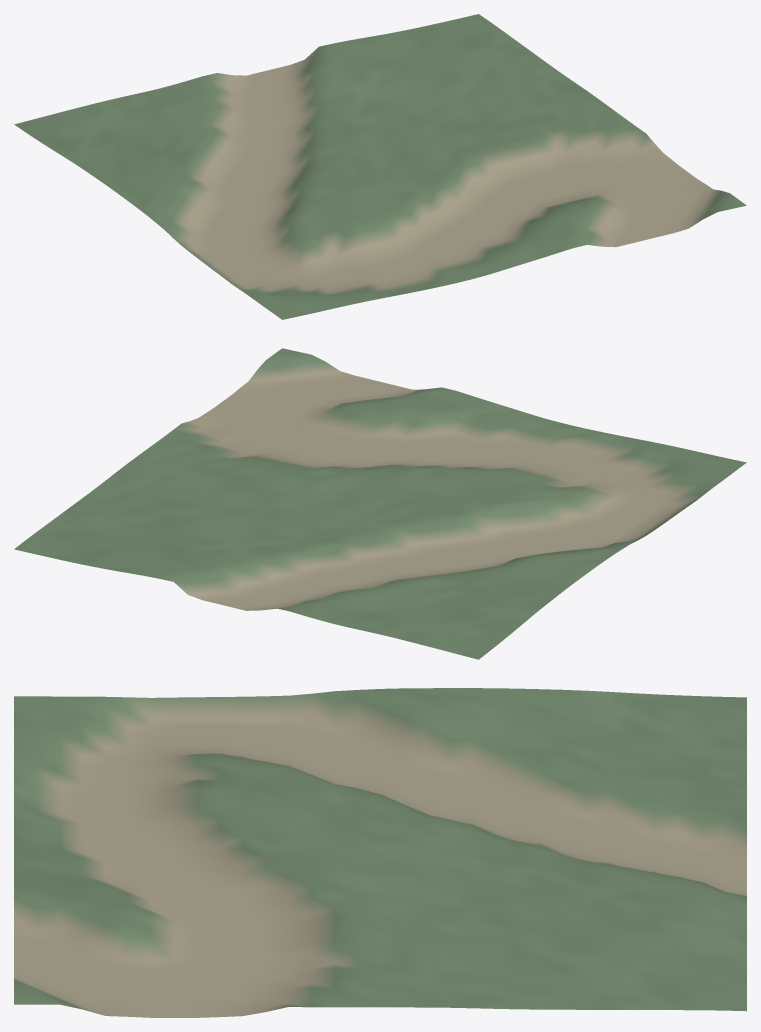
3 views of the same model, one above another, from view 1: azimuth 30°, elevation 25°; view 2: azimuth 150°, elevation 25°; view 3: azimuth 270°, elevation 25° (orthographic). The views are drawn at different scales.
Parts seen in each view (by area): view 1: Terrain-col; view 2: Terrain-col; view 3: Terrain-col.
Boxes of the visible parts, bbox=[...] form: Terrain-col: bbox=[14, 14, 746, 319]; Terrain-col: bbox=[14, 348, 746, 659]; Terrain-col: bbox=[14, 688, 746, 1017].
Bounding box in the file's own units: 256 × 7.88 × 256.
